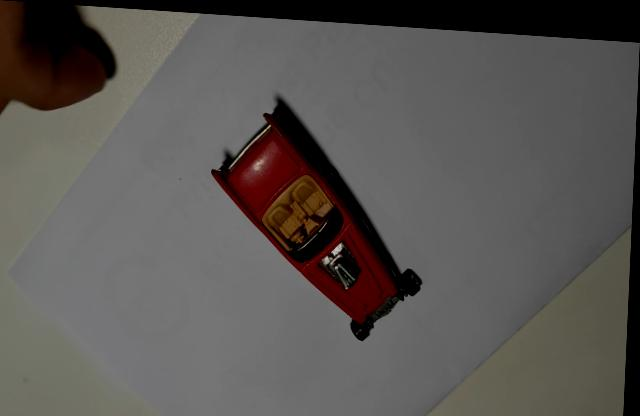03_V8: (211, 90, 426, 333)
